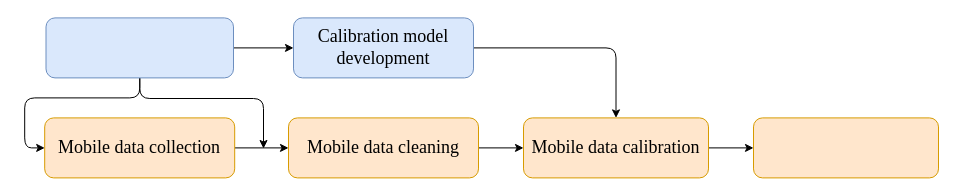
This 956x195 diagram has some shape labels left out. Each missing label, with the box of its shape:
Mobile data analysis: (752, 117, 938, 178)
Stationary collocation: (45, 17, 234, 78)
